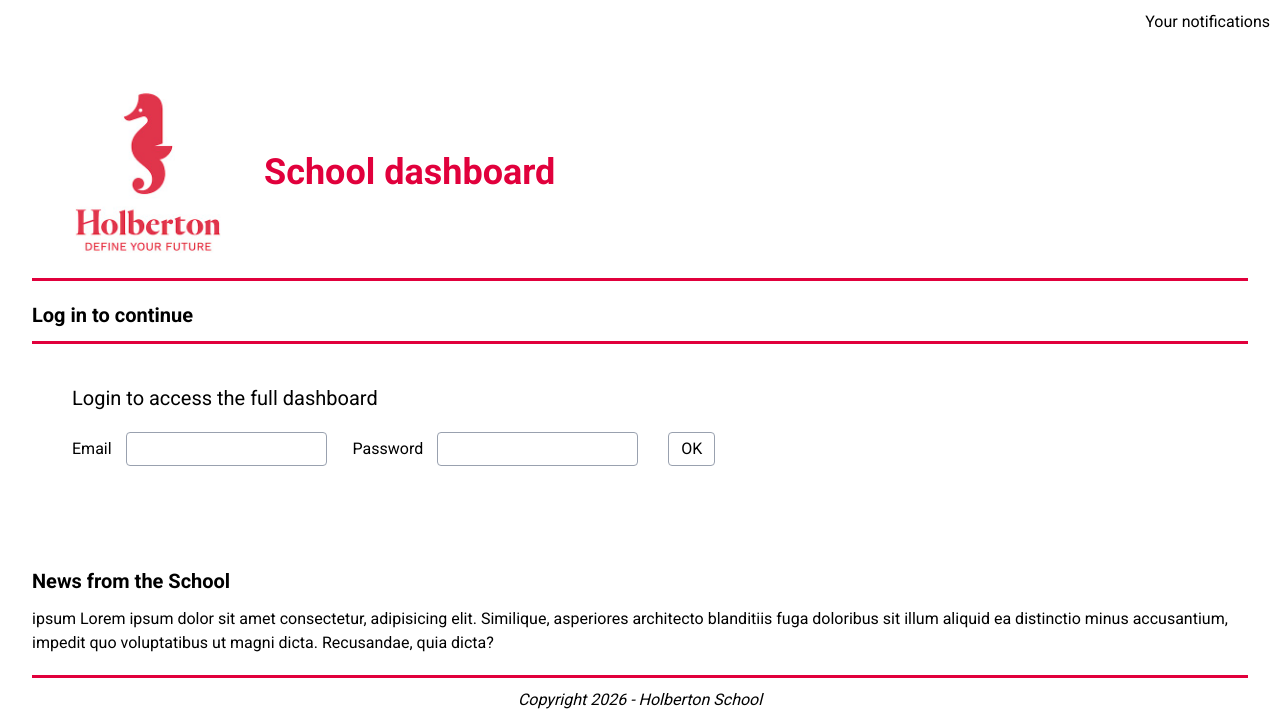
Test: App component › displayDrawer state and handlers › clicking on close button closes the drawer
Click the text "Your notifications".
click(1208, 22)  # box 1145,10 -> 1270,34
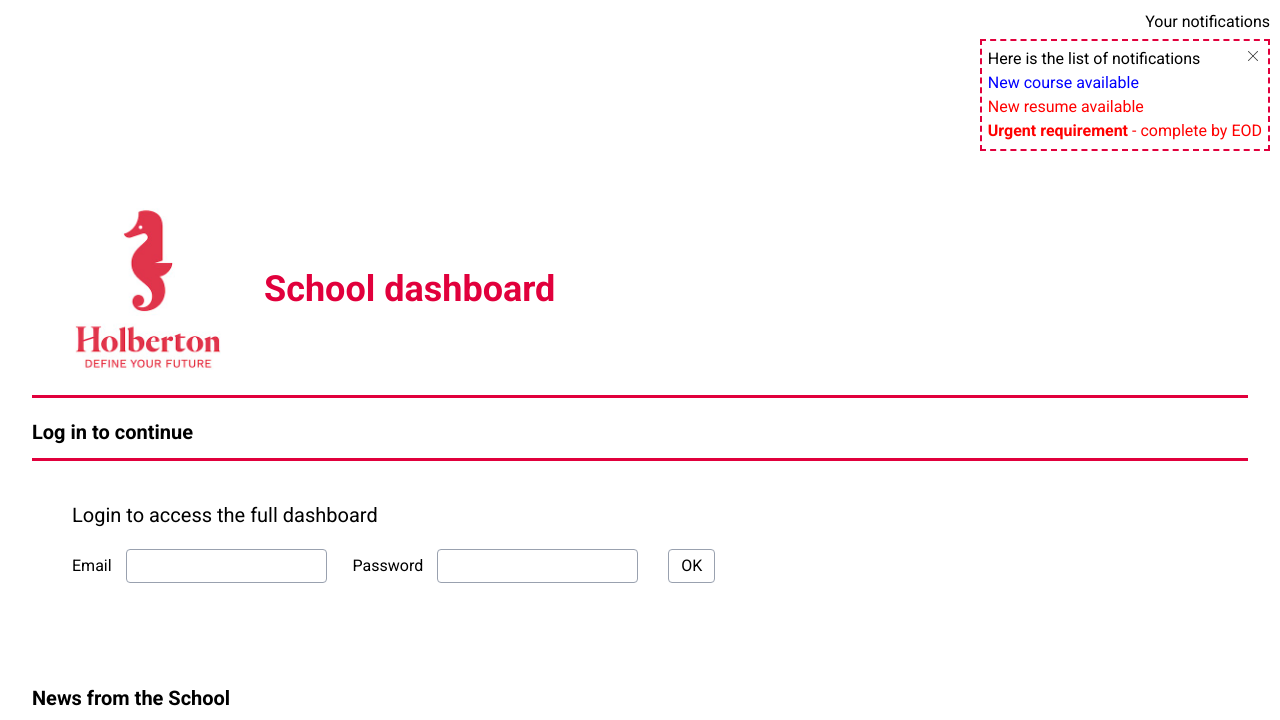
Expected: the element with class "notification-items" is shown, 980,39 -> 1270,151
Click the button named "close".
click(1253, 56)  # box 1248,51 -> 1258,61
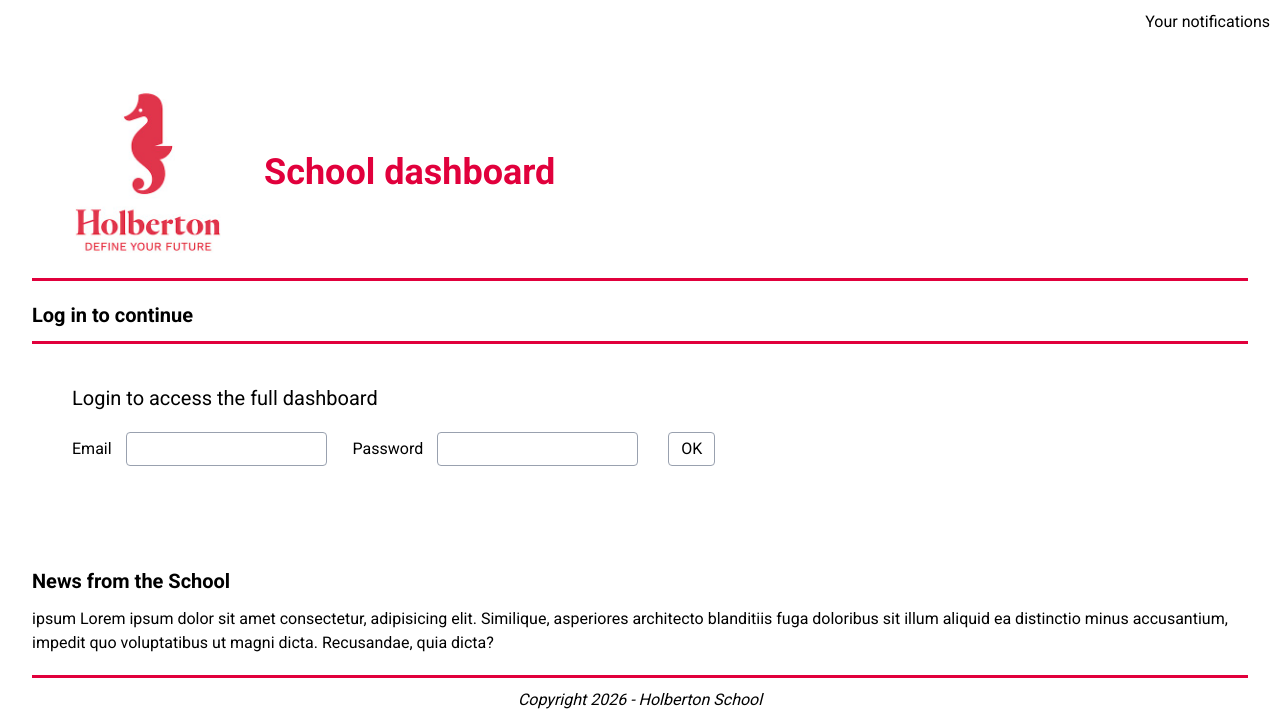
Expected: the element with class "notification-items" is gone
